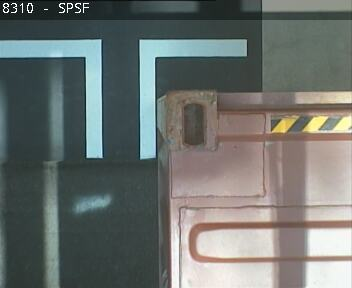groundmarker_1: (1, 38, 247, 157)
